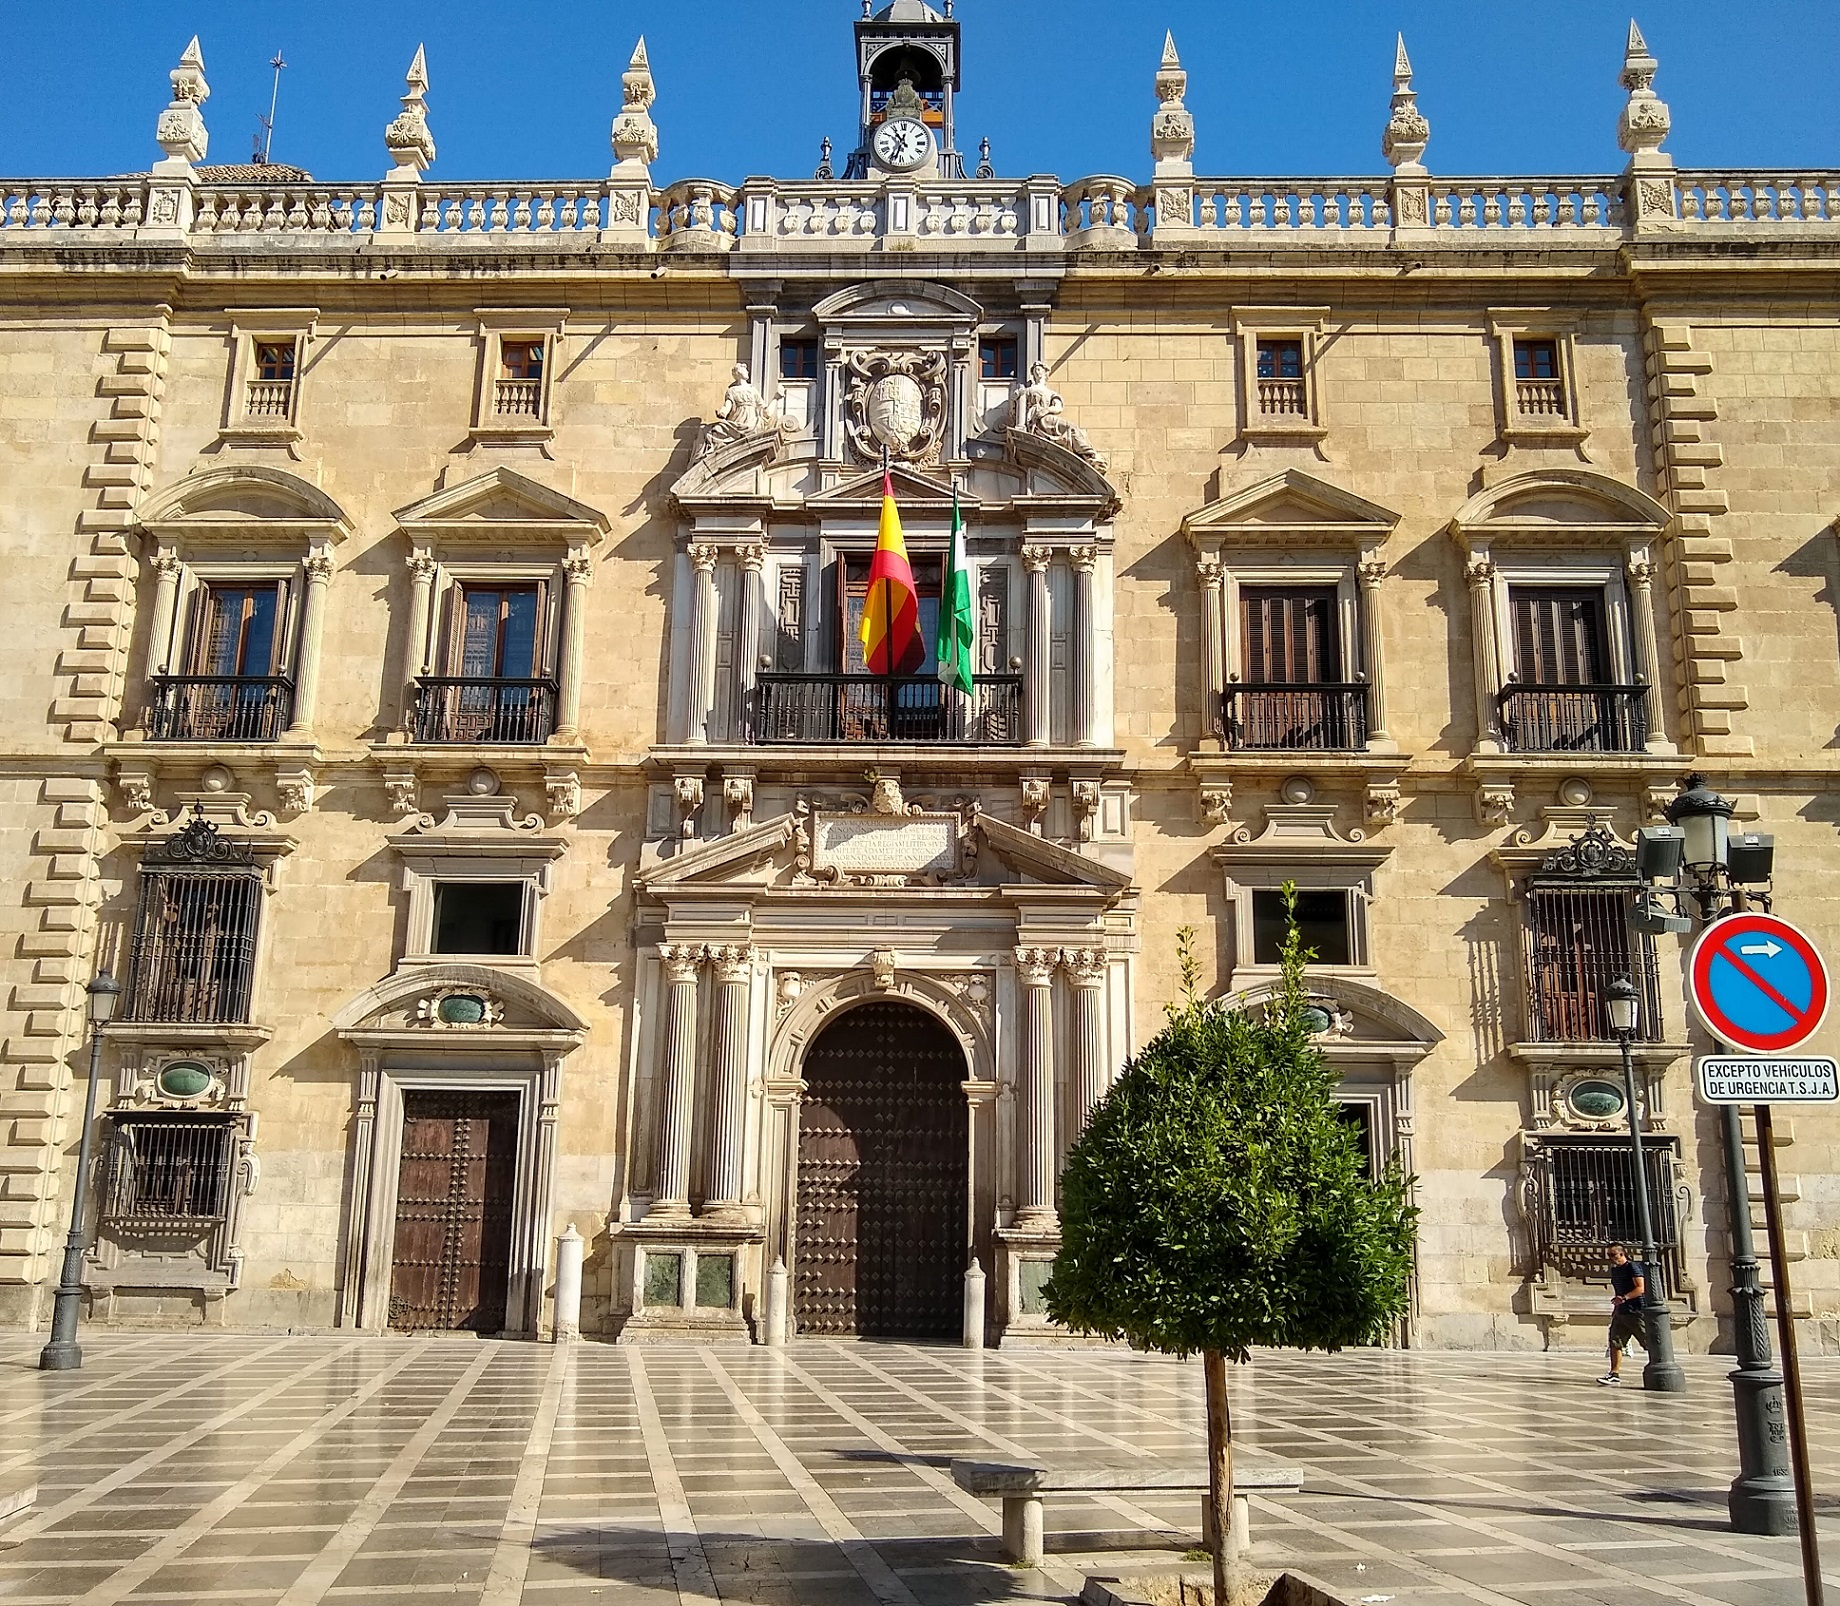arco-medio-punto: (785, 988, 983, 1113)
fronton: (1178, 462, 1408, 543), (382, 460, 613, 538), (801, 466, 987, 517)
fronton-curvo: (322, 963, 596, 1053), (1197, 972, 1452, 1060), (1446, 465, 1682, 545), (135, 465, 352, 538), (809, 275, 987, 329)
fronton-partido: (624, 808, 1141, 906), (662, 421, 1127, 517)
vano-adintelado: (368, 1061, 546, 1341), (1191, 557, 1397, 751), (1466, 557, 1671, 751), (399, 557, 591, 744), (136, 557, 336, 736)
